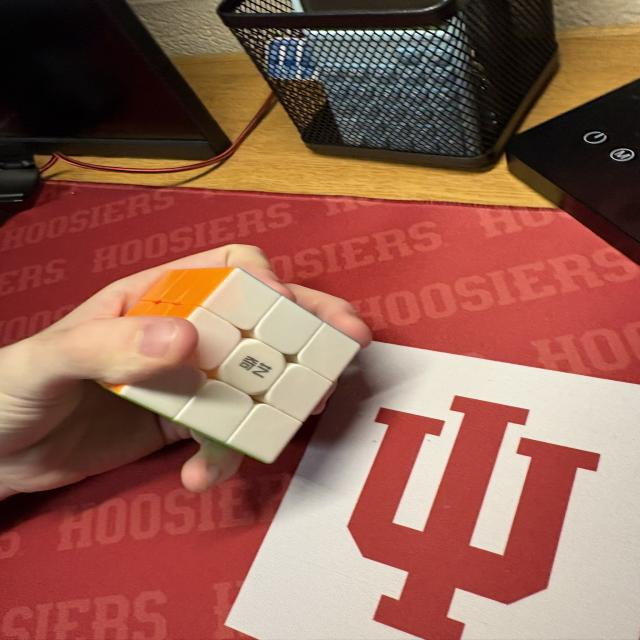Rubiks Cube: (95, 267, 362, 464)
